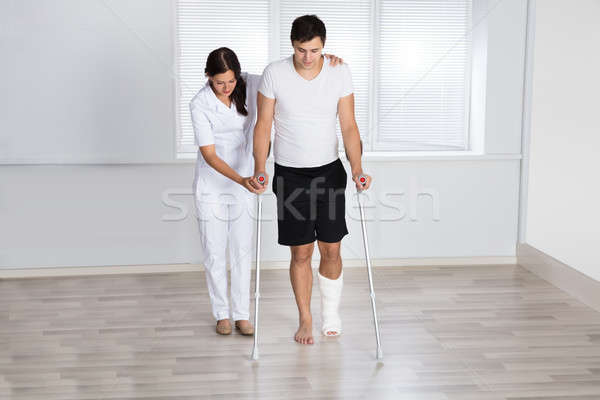crutches: (247, 15, 384, 359)
